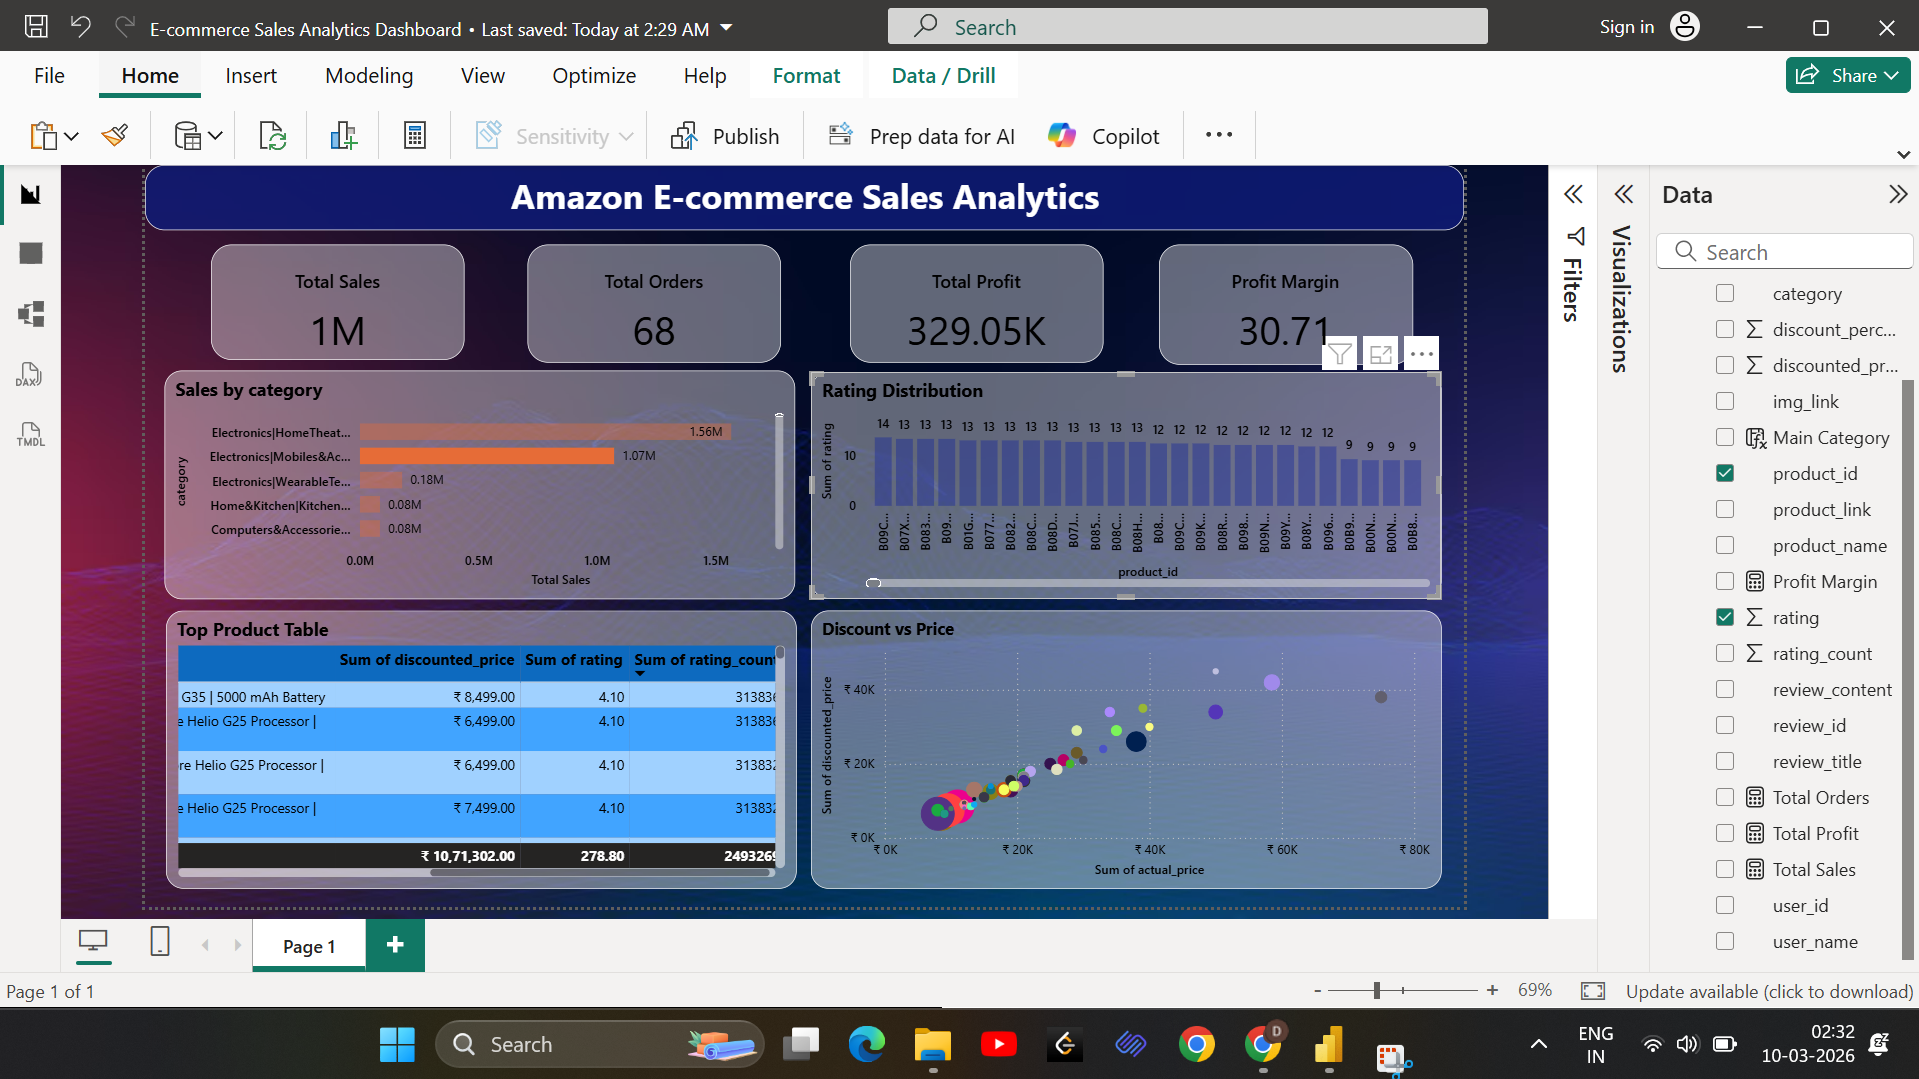

This screenshot's page, from the dashboard's own definition file:
{"tool":"powerbi","page":{"name":"Page 1","canvas":[1280,720],"ordinal":0},"visuals":[{"type":"textbox","title":"Amazon E-commerce Sales Analytics","box":[0,0,1280,63.3],"z":0},{"type":"cardVisual","fields":{"Data":["Amazon.Total Profit"]},"box":[683.8,77.3,246.1,115],"z":1000},{"type":"clusteredBarChart","title":"Sales by category","fields":{"Category":["Amazon.category"],"Y":["Amazon.Total Sales"]},"box":[19.4,199.2,612.1,221.8],"z":2000},{"type":"clusteredColumnChart","title":"Rating Distribution","fields":{"Y":["Sum(Amazon.rating)"],"Category":["Amazon.product_id"]},"box":[646.1,200.8,612.1,220.2],"z":3000},{"type":"tableEx","title":"Top Product Table","fields":{"Values":["Amazon.product_name","Sum(Amazon.discounted_price)","Sum(Amazon.rating)","Sum(Amazon.rating_count)"]},"box":[20,431.7,611.7,270],"z":4000},{"type":"scatterChart","title":"Discount vs Price","fields":{"X":["Sum(Amazon.actual_price)"],"Y":["Sum(Amazon.discounted_price)"],"Size":["Sum(Amazon.rating_count)"],"Category":["Amazon.product_name"]},"box":[646.7,431.7,611.7,270],"z":5000},{"type":"cardVisual","fields":{"Data":["Amazon.Profit Margin"]},"box":[983.3,76.7,246.7,116.7],"z":7000},{"type":"cardVisual","fields":{"Data":["Amazon.Total Orders"]},"box":[371.3,77.3,246.1,115],"z":8000},{"type":"cardVisual","fields":{"Data":["Amazon.Total Sales"]},"box":[63.6,77.3,246.1,111.7],"z":9000}]}

Visuals, with their boxes on the page's 1280x720 design canvas (x1, y1, x2, y2). These are canvas units, not pixel positions in the 1919x1079 screenshot, which may show the page scaled, cropped or inside an application window:
"Amazon E-commerce Sales Analytics" textbox: select_region(0, 0, 1280, 63)
cardVisual - Amazon.Total Profit: select_region(684, 77, 930, 192)
"Sales by category" clusteredBarChart: select_region(19, 199, 632, 421)
"Rating Distribution" clusteredColumnChart: select_region(646, 201, 1258, 421)
"Top Product Table" tableEx: select_region(20, 432, 632, 702)
"Discount vs Price" scatterChart: select_region(647, 432, 1258, 702)
cardVisual - Amazon.Profit Margin: select_region(983, 77, 1230, 193)
cardVisual - Amazon.Total Orders: select_region(371, 77, 617, 192)
cardVisual - Amazon.Total Sales: select_region(64, 77, 310, 189)
